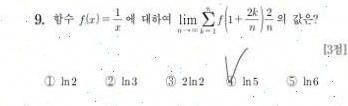choice: (224, 68, 238, 88)
not-choice: (42, 74, 57, 88), (284, 74, 298, 88), (163, 74, 177, 87), (103, 74, 116, 87)
